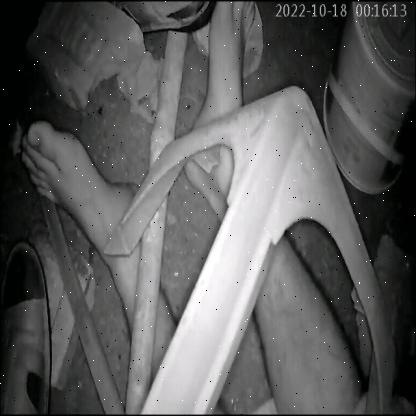leg: (12, 110, 139, 314), (181, 0, 256, 179)
